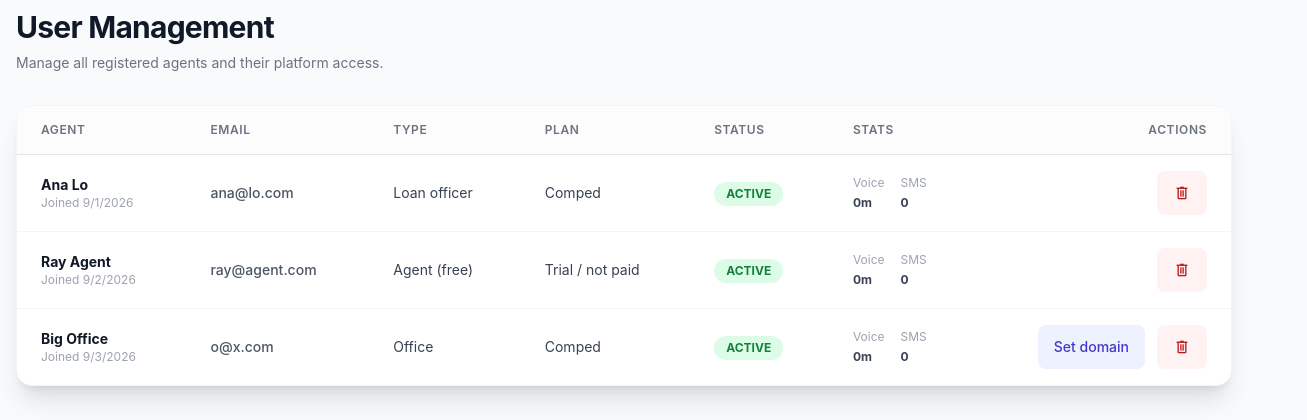
Test: AdminUsersPage › lets you set a custom domain on an office account only
The image size is (1307, 420).
Click the button "Set domain" at (1091, 347), box [1038, 325, 1145, 369]
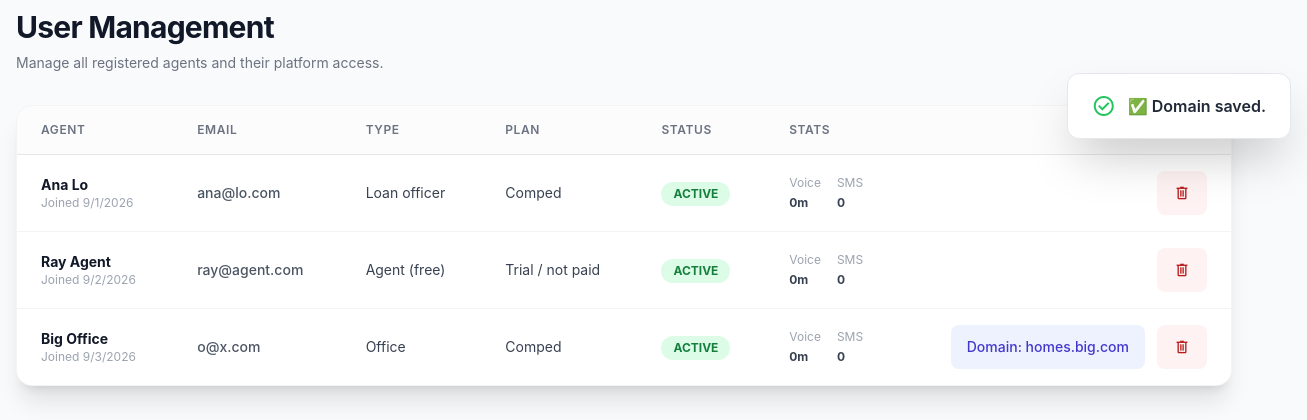
expect the button "Domain: homes.big.com" is shown: met, box [951, 325, 1145, 369]
